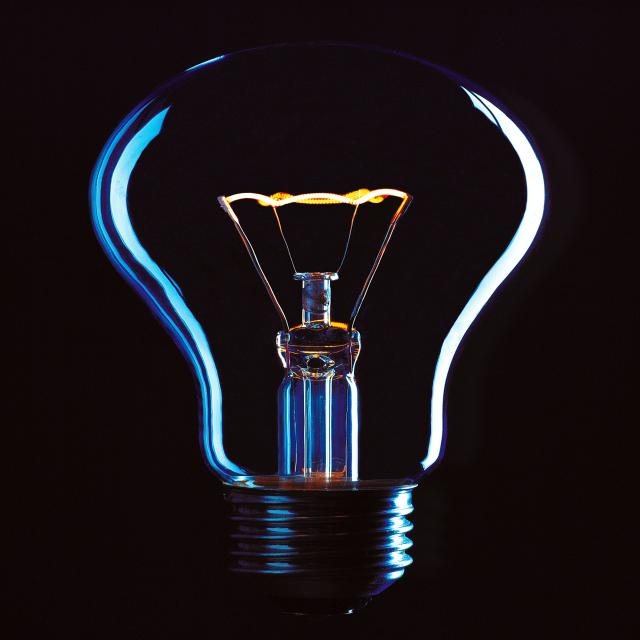Glass: (42, 38, 576, 478)
